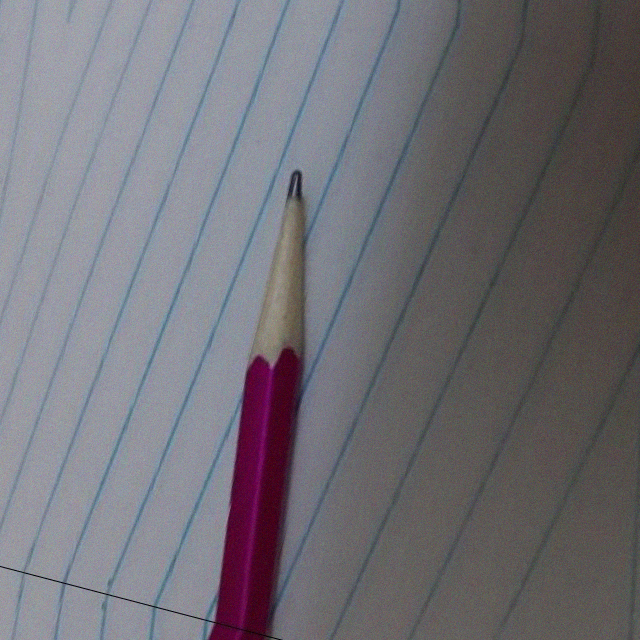pencil: (218, 155, 349, 380)
